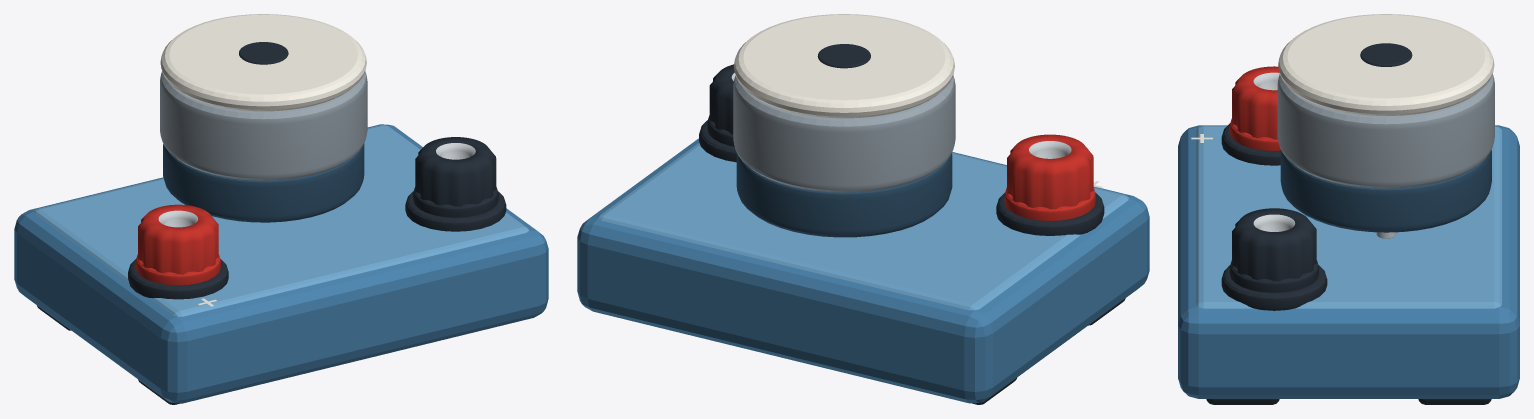
Rendered from buzzer.glb.
3 renders of one model, left to right at view 1: azimuth 30°, elevation 25°; view 2: azimuth 150°, elevation 25°; view 3: azimuth 270°, elevation 25°, orthographic. The views are drawn at different scales.
Parts seen in each view (by area): view 1: Two-pin buzzer cradle, Top shoulder, Sound port top flange, Piezo buzzer ribbed body, Piezo buzzer bottom, n binding socket, p binding socket, p socket washer, n socket washer, p socket foot, n socket foot, Black sound port recess; view 2: Two-pin buzzer cradle, Top shoulder, Sound port top flange, Piezo buzzer ribbed body, Piezo buzzer bottom, p binding socket, p socket washer, n binding socket, p socket foot, Black sound port recess, n socket washer; view 3: Two-pin buzzer cradle, Top shoulder, Sound port top flange, Piezo buzzer ribbed body, Piezo buzzer bottom, n binding socket, p binding socket, n socket washer, n socket foot, p socket washer, Black sound port recess, p socket foot (+2 smaller).
Part boxes in pixels (left/top/right/bottom): Two-pin buzzer cradle: left=14, top=124, right=548, bottom=403; Top shoulder: left=34, top=125, right=528, bottom=316; Sound port top flange: left=160, top=14, right=366, bottom=111; Piezo buzzer ribbed body: left=160, top=71, right=367, bottom=180; Piezo buzzer bottom: left=163, top=143, right=364, bottom=222; n binding socket: left=415, top=137, right=496, bottom=206; p binding socket: left=138, top=204, right=218, bottom=274; p socket washer: left=128, top=259, right=228, bottom=299; n socket washer: left=405, top=191, right=506, bottom=231; p socket foot: left=135, top=254, right=220, bottom=285; n socket foot: left=413, top=187, right=498, bottom=217; Black sound port recess: left=239, top=42, right=288, bottom=64; Two-pin buzzer cradle: left=577, top=138, right=1149, bottom=403; Top shoulder: left=598, top=143, right=1128, bottom=310; Sound port top flange: left=734, top=14, right=954, bottom=118; Piezo buzzer ribbed body: left=733, top=75, right=955, bottom=192; Piezo buzzer bottom: left=736, top=153, right=952, bottom=237; p binding socket: left=1007, top=134, right=1093, bottom=209; p socket washer: left=996, top=192, right=1104, bottom=235; n binding socket: left=709, top=64, right=735, bottom=134; p socket foot: left=1004, top=187, right=1095, bottom=220; Black sound port recess: left=817, top=44, right=870, bottom=68; n socket washer: left=699, top=120, right=736, bottom=162; Two-pin buzzer cradle: left=1178, top=125, right=1519, bottom=398; Top shoulder: left=1196, top=125, right=1501, bottom=308; Sound port top flange: left=1278, top=14, right=1494, bottom=115; Piezo buzzer ribbed body: left=1277, top=74, right=1494, bottom=188; Piezo buzzer bottom: left=1280, top=149, right=1491, bottom=232; n binding socket: left=1232, top=208, right=1316, bottom=281; p binding socket: left=1232, top=66, right=1279, bottom=139; n socket washer: left=1221, top=265, right=1327, bottom=310; n socket foot: left=1229, top=260, right=1318, bottom=292; p socket washer: left=1221, top=123, right=1280, bottom=165; Black sound port recess: left=1360, top=43, right=1412, bottom=66; p socket foot: left=1229, top=118, right=1280, bottom=150.
Size of the model in its own units: 0.075 by 0.0465 by 0.055.
